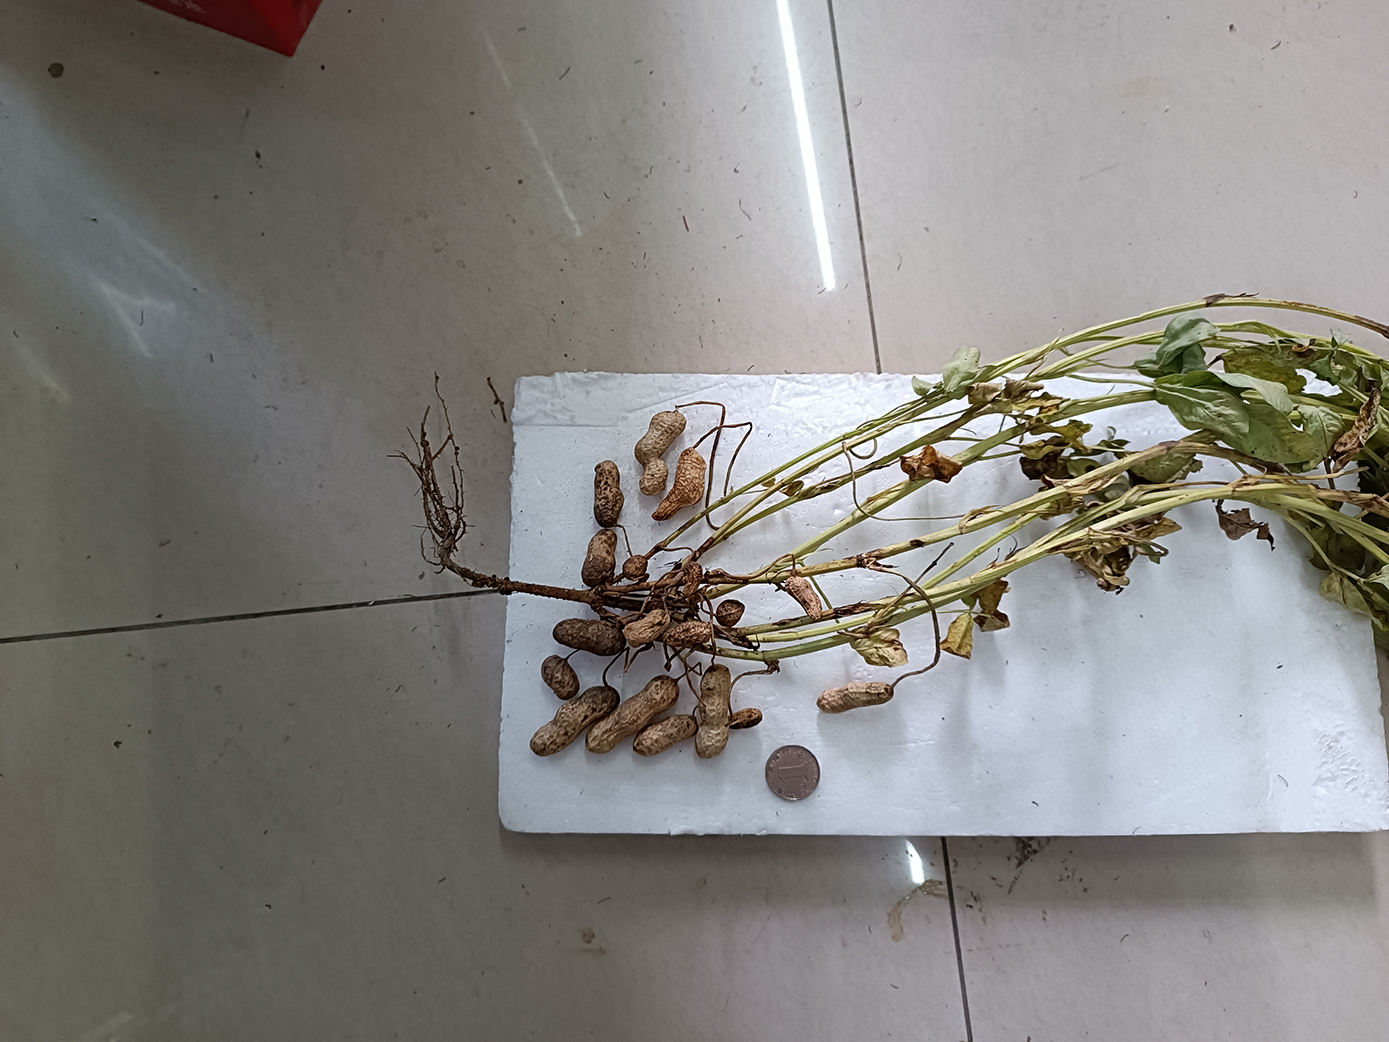h: (586, 676, 679, 753), (528, 686, 620, 756), (634, 412, 687, 495), (651, 447, 704, 521), (695, 665, 731, 759), (630, 715, 697, 755), (817, 683, 892, 713), (580, 529, 617, 587), (540, 655, 580, 701), (785, 576, 824, 622), (622, 610, 670, 647), (663, 622, 711, 646), (725, 708, 762, 729), (682, 561, 701, 600), (621, 555, 649, 579)
l: (552, 620, 626, 656), (593, 459, 626, 526), (717, 600, 745, 628)
